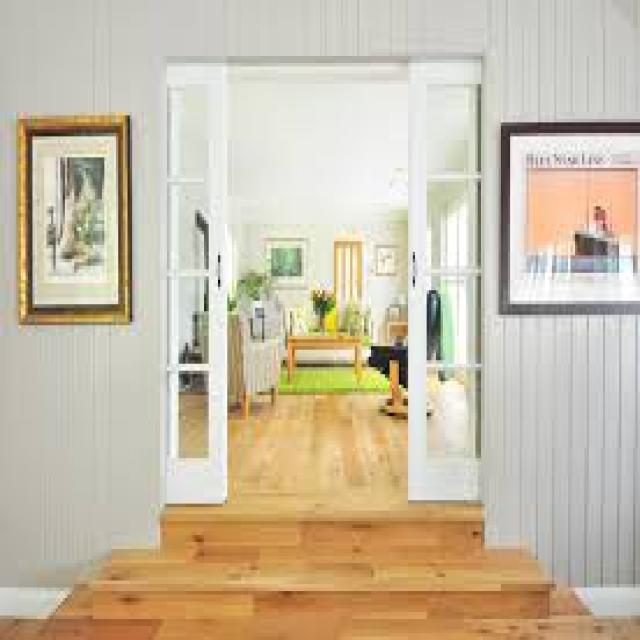Chair: (199, 307, 281, 411), (385, 287, 443, 414)
Table: (284, 322, 368, 389)
